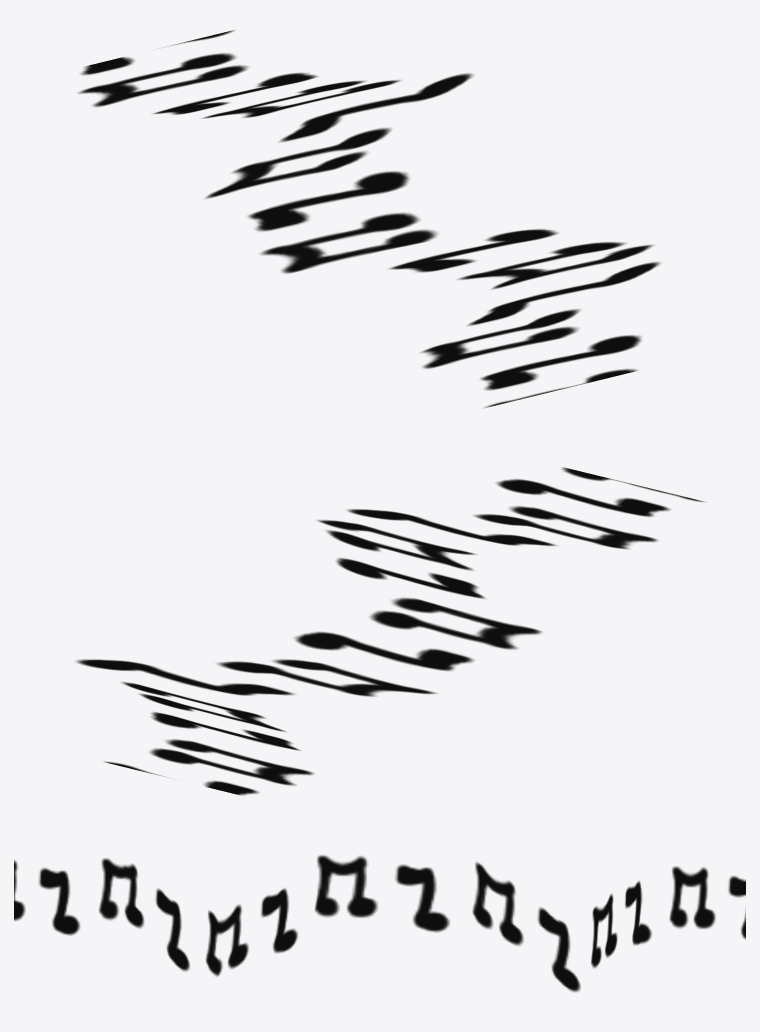
File: Notes.glb
3 renders of one model, top to bottom at view 1: azimuth 30°, elevation 25°; view 2: azimuth 150°, elevation 25°; view 3: azimuth 270°, elevation 25°, orthographic. The views are drawn at different scales.
Visible parts, largest first — view 1: Plane; view 2: Plane; view 3: Plane.
Part boxes in pixels (x1,y1,x2,y2): Plane: (78,30,660,407); Plane: (75,467,703,795); Plane: (14,855,745,992).
Size of the model in its own units: 0.8451 by 0 by 1.47.
1 material, 1 textured.
